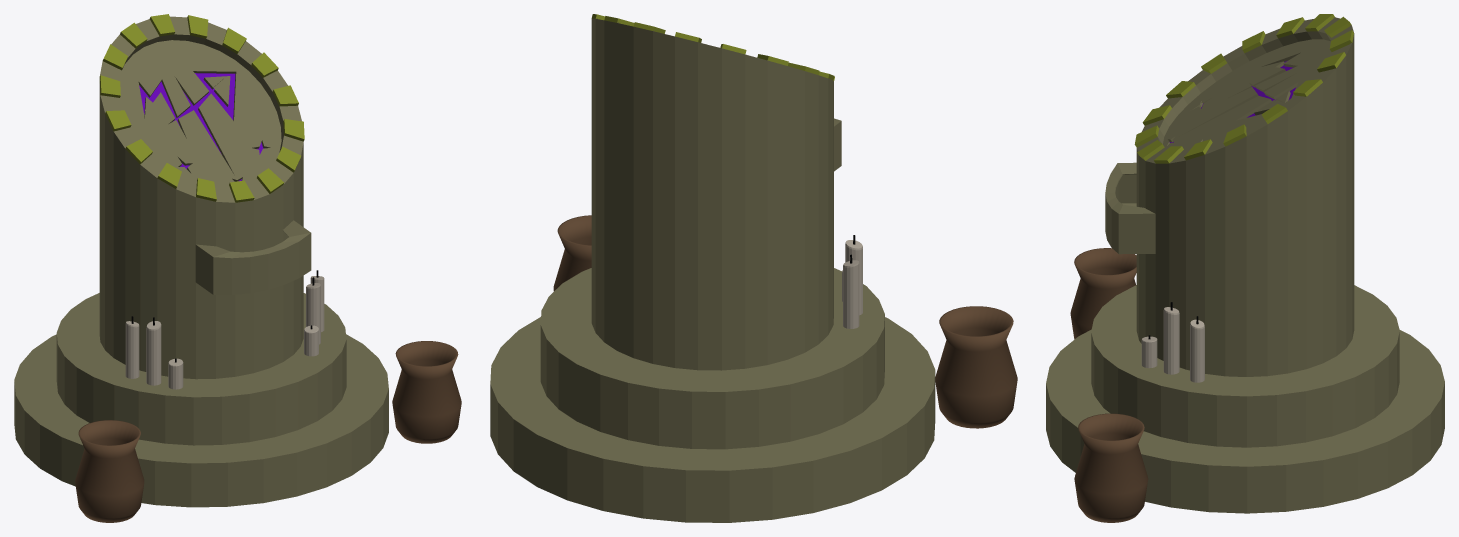
File: altar.fbx
3 renders of one model, left to right at view 1: azimuth 30°, elevation 25°; view 2: azimuth 150°, elevation 25°; view 3: azimuth 270°, elevation 25°, orthographic. The views are drawn at different scales.
Parts seen in each view (by area): view 1: Plano.002; view 2: Plano.002; view 3: Plano.002.
Boxes of the visible parts, x1,y1,x2,y2 form: Plano.002: (14, 14, 461, 522); Plano.002: (490, 14, 1017, 522); Plano.002: (1046, 14, 1444, 522).
Bounding box in the file's own units: 428 × 405 × 367.
